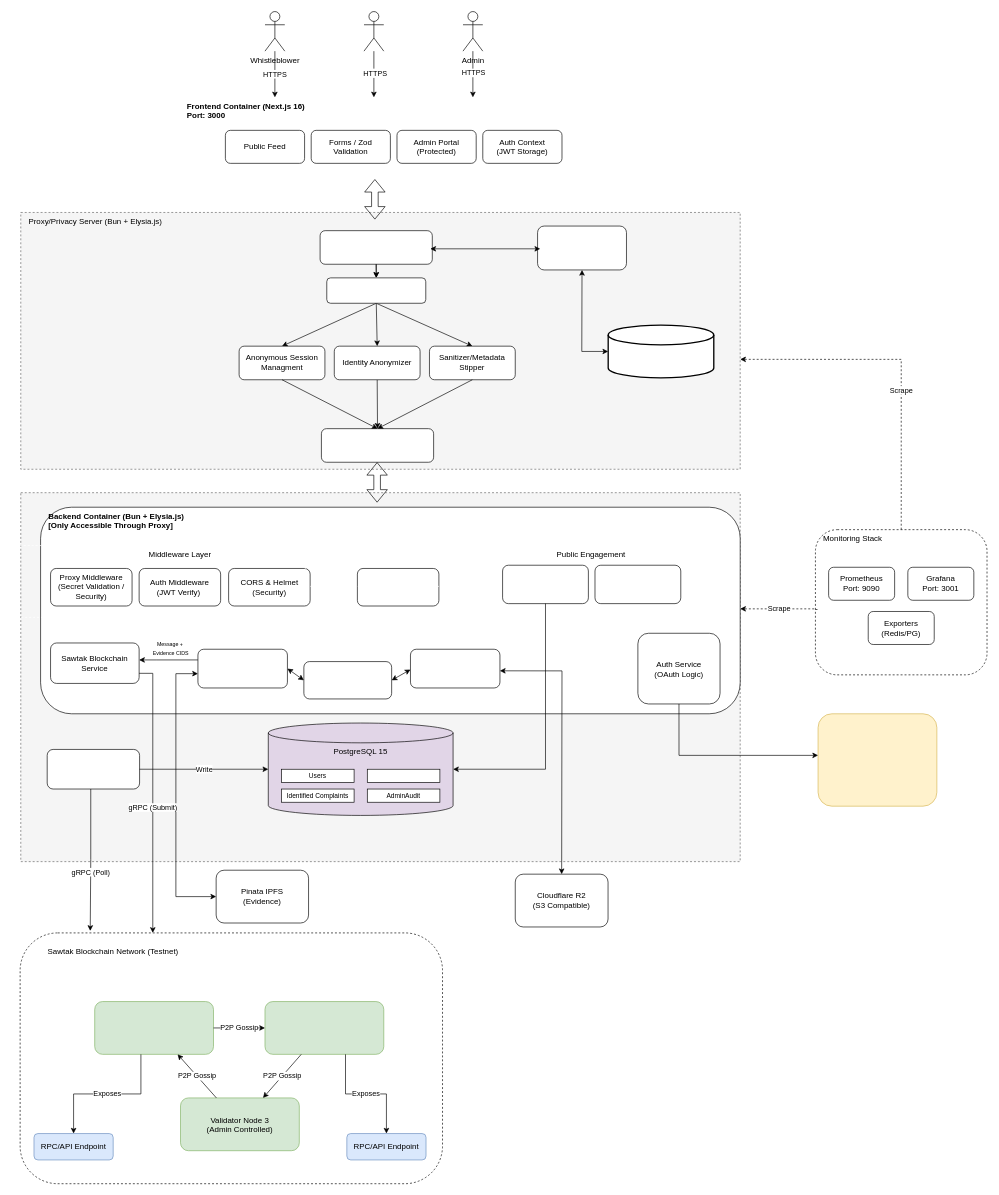
Image size: 999x1195. Some labels were removed from this diagram. Here are the shapes that lost their labels. From the top down, the centre of each, then its label:
At point 375,247: "Request Ingress Server Entrypoint".
At point 581,247: "Redis Rate Limiter".
At point 376,290: "Security Policy Engine".
At point 660,351: "Redis Store".
At point 377,445: "Upstream Forwarder".
At point 398,565: "Organizational Structure".
At point 545,584: "Feed Service".
At point 637,584: "Vote Service".
At point 398,587: "Teams/Role Service (RBAC)".
At point 242,668: "Anonymous Submission Service".
At point 347,680: "LLM Based Spam & Content Filter Service".
At point 455,668: "Identified Submission Service".
At point 93,769: "Cosmos Indexer (Background Worker)".
At point 403,775: "Indexed Complaints".
At point 877,759: "Haweya Identification (Mock OAuth2)".
At point 154,1027: "Validator Node 1 (Admin Controlled)".
At point 324,1027: "Validator Node 2 (Admin Controlled)".
